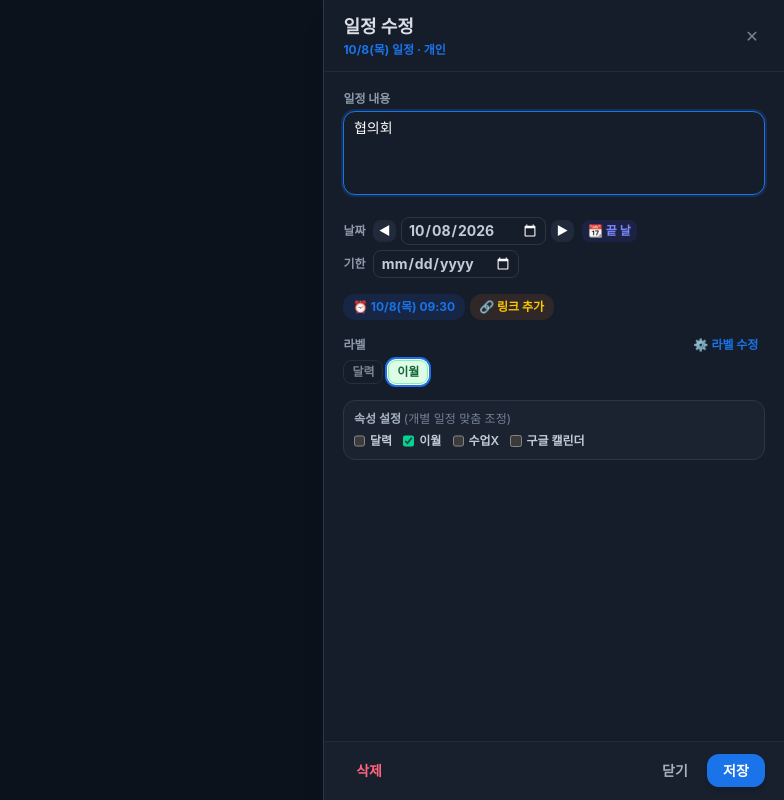
고치기 › 바뀐 칸만 (문서 하나), 안내의 되돌리기
Expected: the checkbox labelled "이월" is checked, 403,436 -> 414,447
Replace the text in the text box with "협의회 2" at (554, 153), box 343,111 -> 765,195
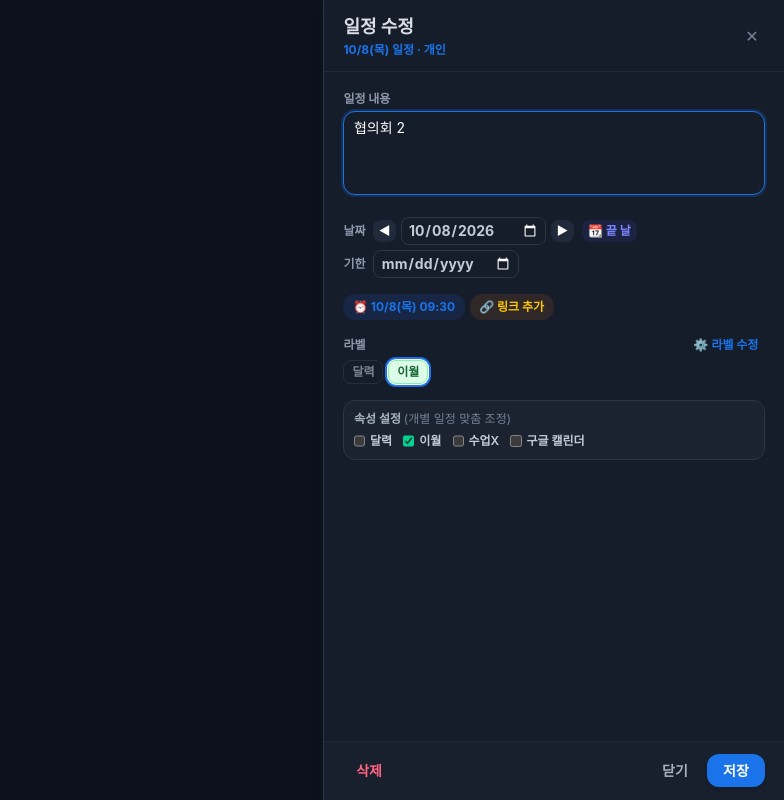
Click the button "저장".
click(736, 771)  # box 707,754 -> 765,787
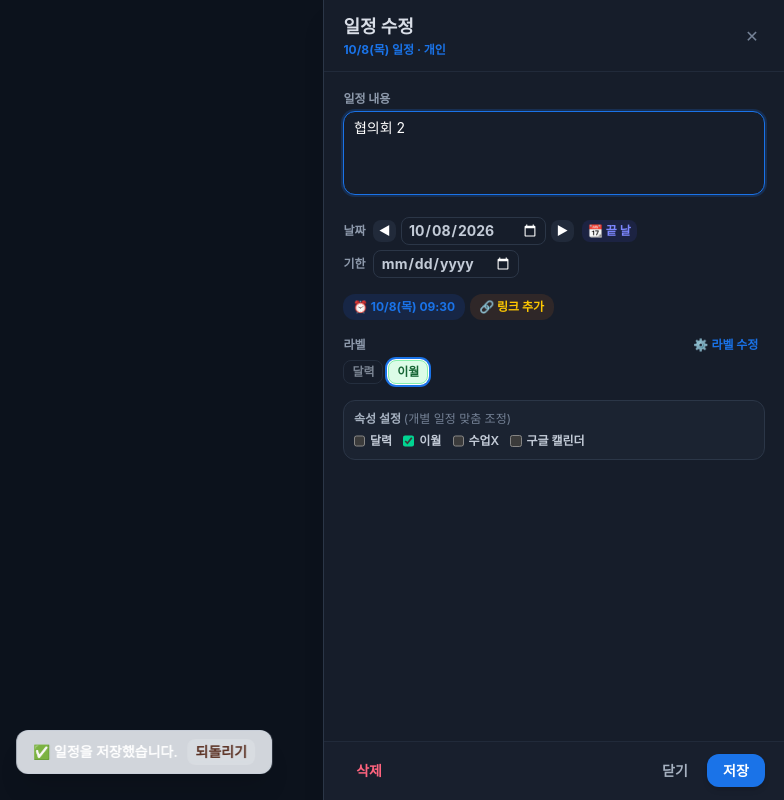
Expected: the button "되돌리기" is shown, 188,739 -> 255,765
